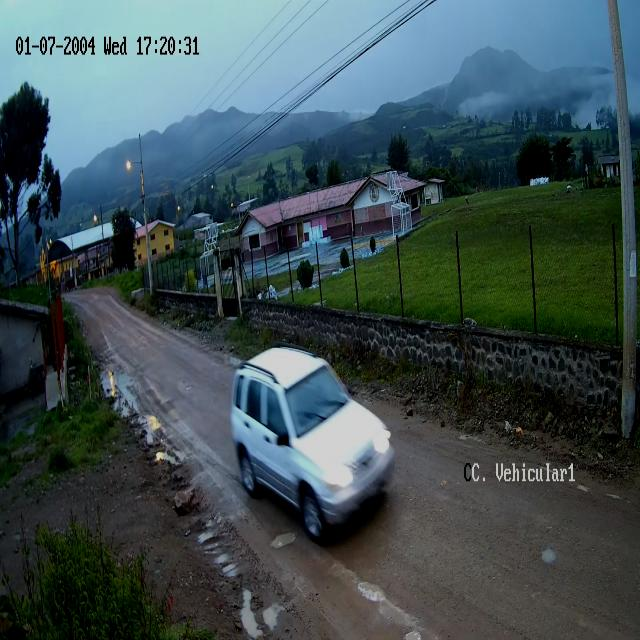SUV: (230, 348, 396, 542)
